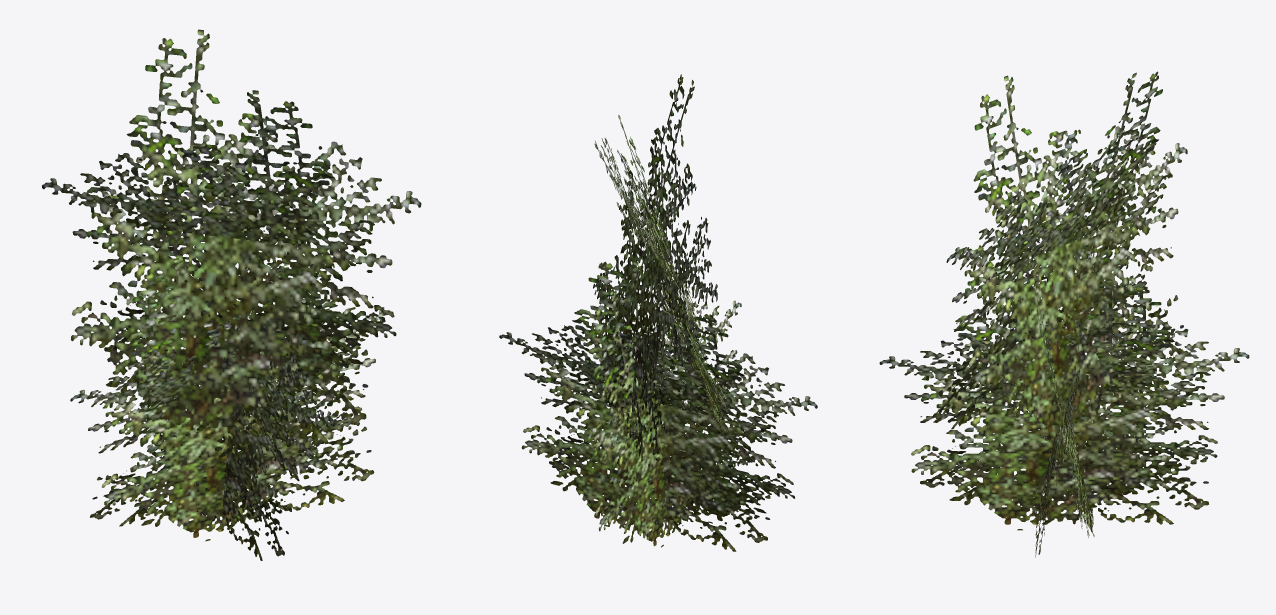
File: wrld_fol_bush_generic_4.glb
3 views of the same model, side by side, from view 1: azimuth 30°, elevation 25°; view 2: azimuth 150°, elevation 25°; view 3: azimuth 270°, elevation 25° (orthographic). The views are drawn at different scales.
Visible parts, largest first — view 1: wrld_fol_bush_generic_4; view 2: wrld_fol_bush_generic_4; view 3: wrld_fol_bush_generic_4.
Boxes of the visible parts, left/top/right/bottom form: wrld_fol_bush_generic_4: left=42, top=29, right=421, bottom=560; wrld_fol_bush_generic_4: left=499, top=74, right=817, bottom=551; wrld_fol_bush_generic_4: left=879, top=71, right=1249, bottom=557.
Bounding box in the file's own units: 3.66 × 4.57 × 3.66.
1 material, 1 textured.
